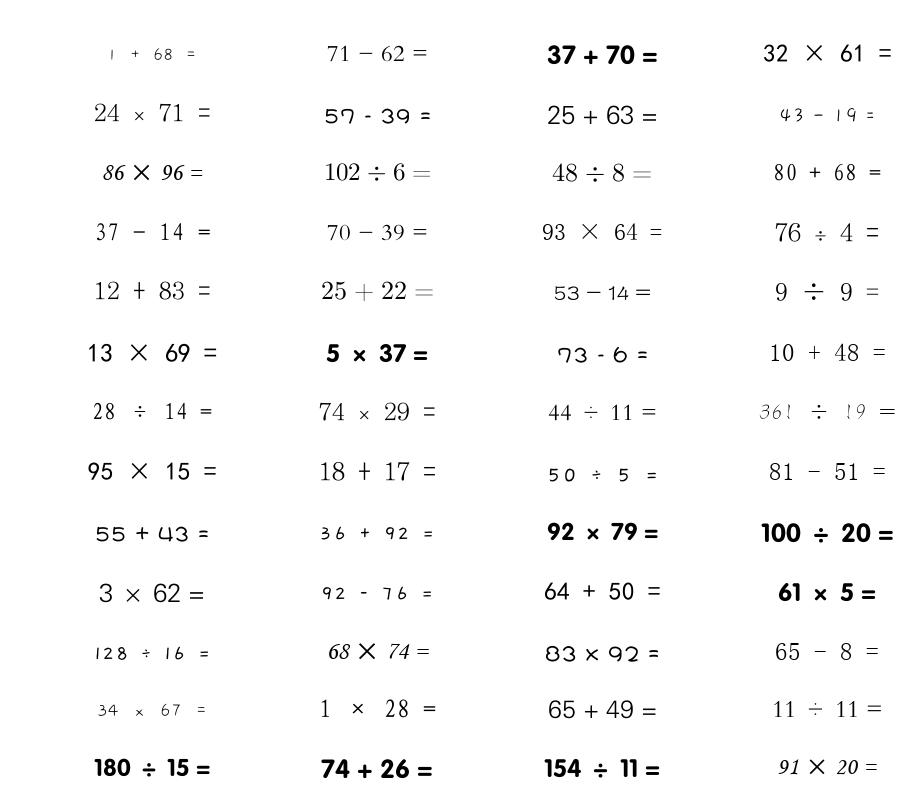MQ: (761, 523, 894, 543), (87, 343, 217, 362), (321, 281, 434, 302), (319, 461, 436, 481), (763, 44, 892, 62), (88, 462, 217, 480), (544, 758, 660, 778), (321, 759, 433, 779), (94, 103, 211, 122), (94, 281, 211, 300), (319, 402, 436, 421), (544, 582, 661, 601), (319, 699, 436, 718), (547, 45, 658, 65), (547, 105, 658, 125), (94, 758, 210, 777), (759, 404, 896, 420), (92, 402, 212, 420), (99, 583, 205, 603), (547, 522, 658, 541), (94, 223, 211, 241), (769, 343, 886, 361), (548, 700, 657, 719), (542, 223, 662, 240), (326, 343, 428, 363), (769, 463, 886, 480), (775, 223, 879, 242), (778, 582, 876, 602), (545, 645, 660, 662), (773, 163, 881, 181), (324, 163, 431, 181), (552, 163, 652, 182), (775, 283, 879, 301), (548, 404, 657, 421), (95, 526, 209, 542), (772, 701, 883, 717), (775, 643, 879, 660), (326, 643, 429, 660), (101, 164, 203, 181), (327, 45, 428, 62), (327, 224, 428, 241), (324, 108, 431, 124), (94, 646, 211, 660), (319, 526, 435, 540), (777, 759, 877, 775), (320, 586, 434, 600), (546, 468, 659, 482), (97, 703, 208, 717), (557, 346, 648, 363), (779, 107, 875, 123), (554, 286, 651, 301), (107, 48, 197, 61)
